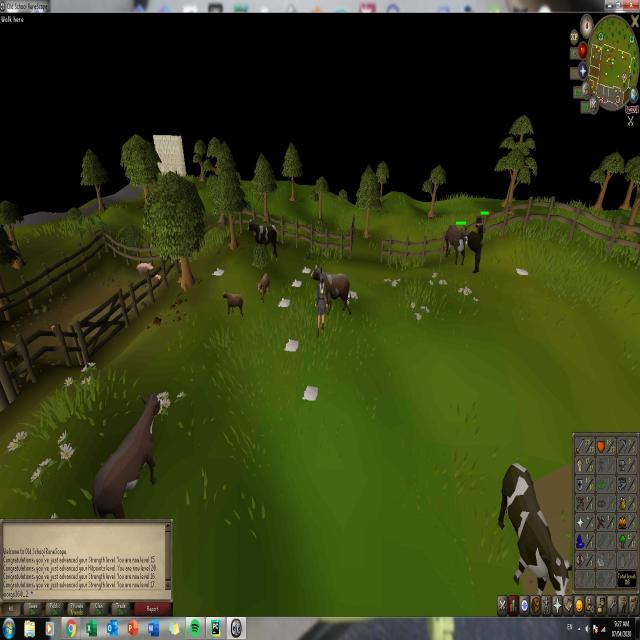cow: (497, 460, 570, 592), (91, 392, 162, 517), (248, 219, 278, 260), (324, 272, 350, 315), (445, 223, 467, 266), (221, 288, 243, 316), (256, 272, 272, 302)
player: (316, 272, 326, 336)
